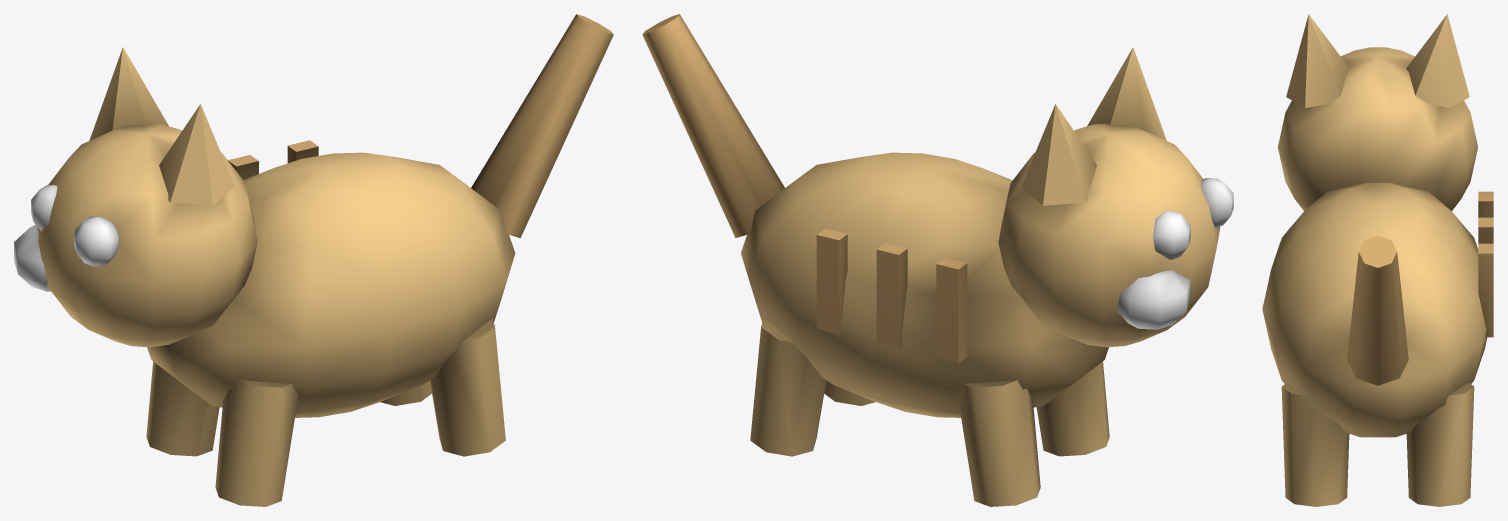
File: Cat.fbx
3 renders of one model, left to right at view 1: azimuth 30°, elevation 25°; view 2: azimuth 150°, elevation 25°; view 3: azimuth 270°, elevation 25°, orthographic. The views are drawn at different scales.
Parts seen in each view (by area): view 1: cat; view 2: cat; view 3: cat.
Part boxes in pixels (<box>): cat: <box>14,14,613,506</box>; cat: <box>642,14,1233,506</box>; cat: <box>1262,14,1493,506</box>.
Size of the model in its own units: 0.7586 by 0.5253 by 0.3.
